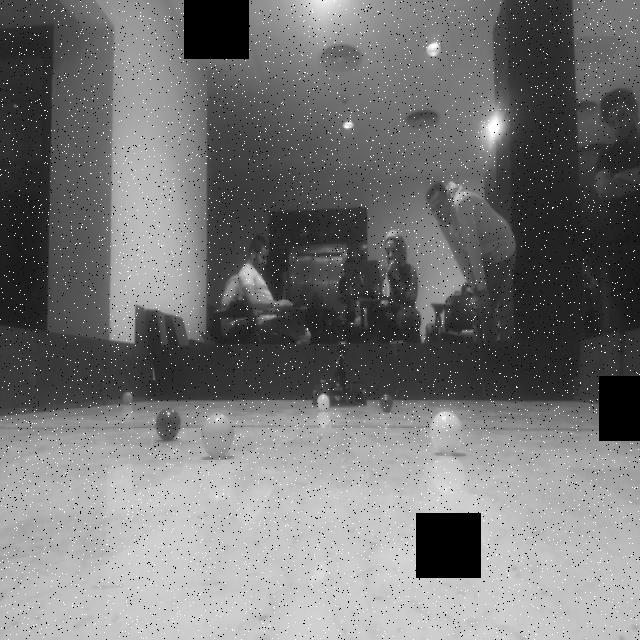ball: (200, 410, 234, 463), (430, 408, 465, 458), (152, 403, 184, 443), (313, 387, 336, 415), (119, 386, 138, 410), (378, 393, 397, 415)
